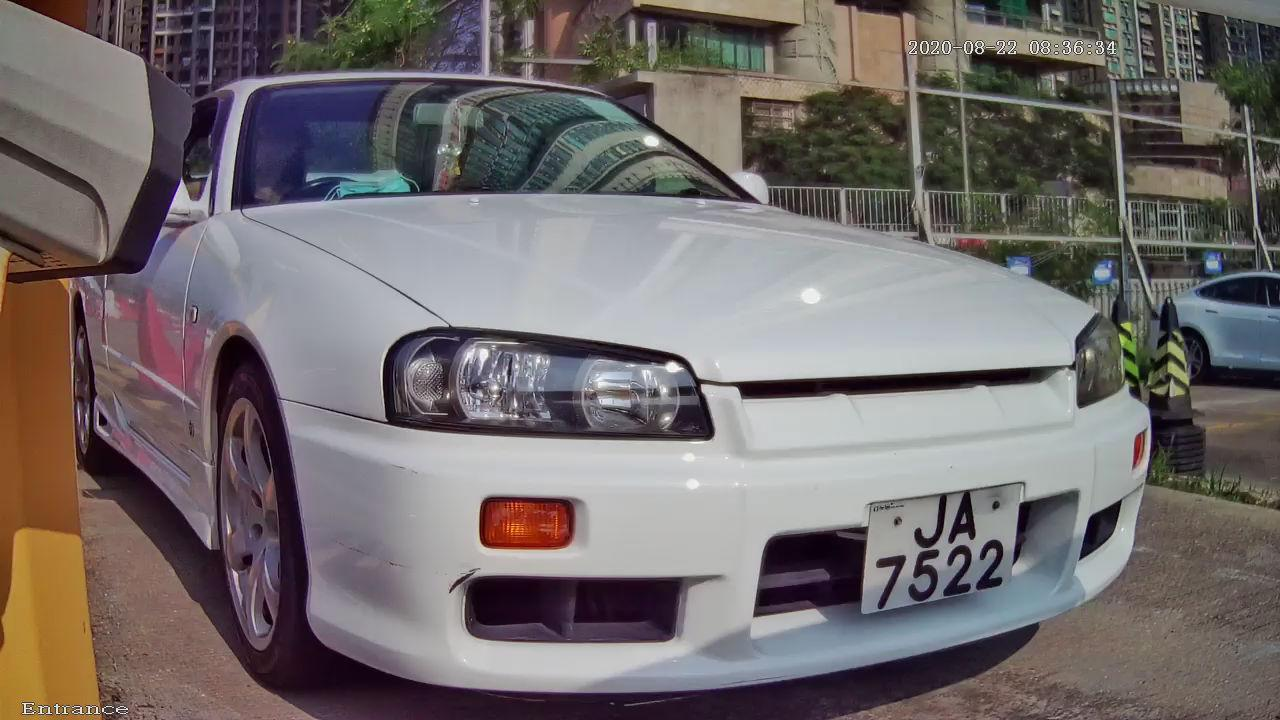Car: (18, 1, 1252, 720)
License Plate: (852, 467, 1041, 631)
